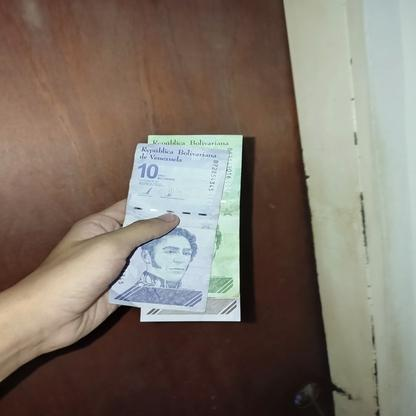vef_front: (107, 142, 230, 312), (148, 134, 242, 298), (138, 296, 240, 324)
